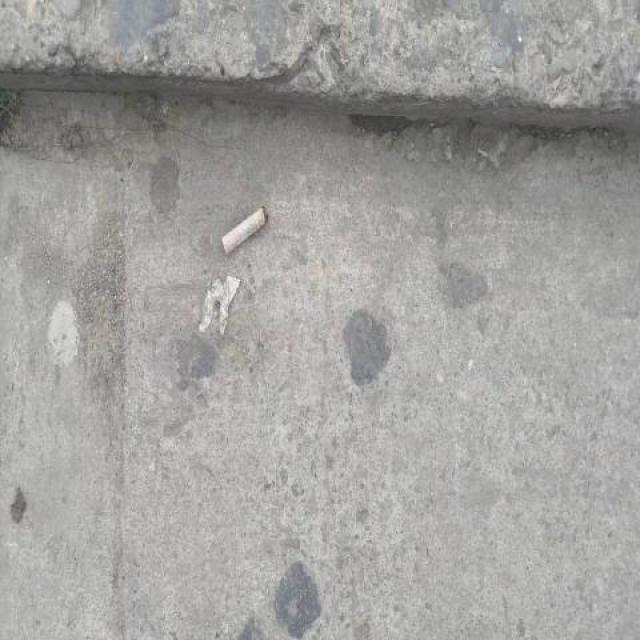non-organic waste: (220, 201, 272, 258)
